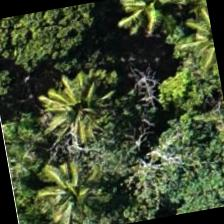Kelapa_Sawit: (31, 59, 134, 163), (21, 148, 124, 223), (96, 0, 195, 57)
